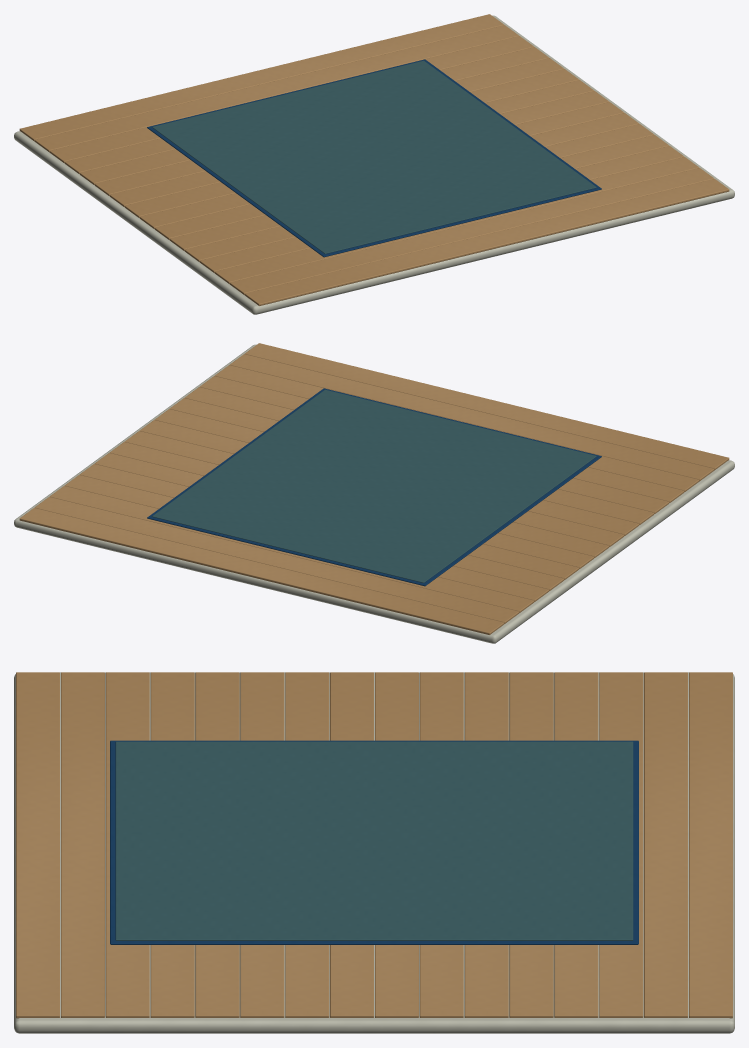
Rendered from floor_module.glb.
3 renders of one model, top to bottom at view 1: azimuth 30°, elevation 25°; view 2: azimuth 150°, elevation 25°; view 3: azimuth 270°, elevation 25°, orthographic. The views are drawn at different scales.
Parts seen in each view (by area): view 1: QuietCarpet, OakFloorBoard.015, StonePlinth, OakFloorBoard, OakFloorBoard.001, OakFloorBoard.014, OakFloorBoard.013, OakFloorBoard.002, OakFloorBoard.005, OakFloorBoard.006, OakFloorBoard.008, OakFloorBoard.007 (+7 smaller); view 2: QuietCarpet, OakFloorBoard, StonePlinth, OakFloorBoard.001, OakFloorBoard.014, OakFloorBoard.015, OakFloorBoard.002, OakFloorBoard.013, OakFloorBoard.007, OakFloorBoard.009, OakFloorBoard.010, OakFloorBoard.006 (+7 smaller); view 3: QuietCarpet, StonePlinth, OakFloorBoard, OakFloorBoard.015, OakFloorBoard.001, OakFloorBoard.014, OakFloorBoard.002, OakFloorBoard.013, OakFloorBoard.003, OakFloorBoard.004, OakFloorBoard.005, OakFloorBoard.006 (+7 smaller).
Boxes of the visible parts, <box> form: QuietCarpet: <box>152,60,596,253</box>; OakFloorBoard.015: <box>244,179,729,305</box>; StonePlinth: <box>14,15,734,314</box>; OakFloorBoard: <box>19,14,503,141</box>; OakFloorBoard.001: <box>34,25,518,152</box>; OakFloorBoard.014: <box>229,168,714,294</box>; OakFloorBoard.013: <box>214,157,699,283</box>; OakFloorBoard.002: <box>49,36,533,162</box>; OakFloorBoard.005: <box>94,69,579,195</box>; OakFloorBoard.006: <box>109,80,594,206</box>; OakFloorBoard.008: <box>139,102,624,228</box>; OakFloorBoard.007: <box>124,91,609,217</box>; QuietCarpet: <box>152,389,596,582</box>; OakFloorBoard: <box>19,508,504,634</box>; StonePlinth: <box>14,344,734,643</box>; OakFloorBoard.001: <box>34,497,519,623</box>; OakFloorBoard.014: <box>230,354,714,481</box>; OakFloorBoard.015: <box>245,343,729,470</box>; OakFloorBoard.002: <box>49,486,534,612</box>; OakFloorBoard.013: <box>215,365,699,491</box>; OakFloorBoard.007: <box>124,431,609,557</box>; OakFloorBoard.009: <box>154,409,639,535</box>; OakFloorBoard.010: <box>169,398,654,524</box>; OakFloorBoard.006: <box>109,442,594,568</box>; QuietCarpet: <box>115,741,633,940</box>; StonePlinth: <box>14,672,734,1033</box>; OakFloorBoard: <box>689,672,732,1018</box>; OakFloorBoard.015: <box>16,672,59,1018</box>; OakFloorBoard.001: <box>644,672,687,1017</box>; OakFloorBoard.014: <box>61,672,104,1017</box>; OakFloorBoard.002: <box>599,672,643,1017</box>; OakFloorBoard.013: <box>105,672,149,1017</box>; OakFloorBoard.003: <box>554,672,598,1017</box>; OakFloorBoard.004: <box>509,672,553,1017</box>; OakFloorBoard.005: <box>464,672,508,1017</box>; OakFloorBoard.006: <box>419,672,463,1017</box>.
Size of the model in its own units: 10.4 by 0.26 by 9.
Materials: 1 (1 with a texture image).
